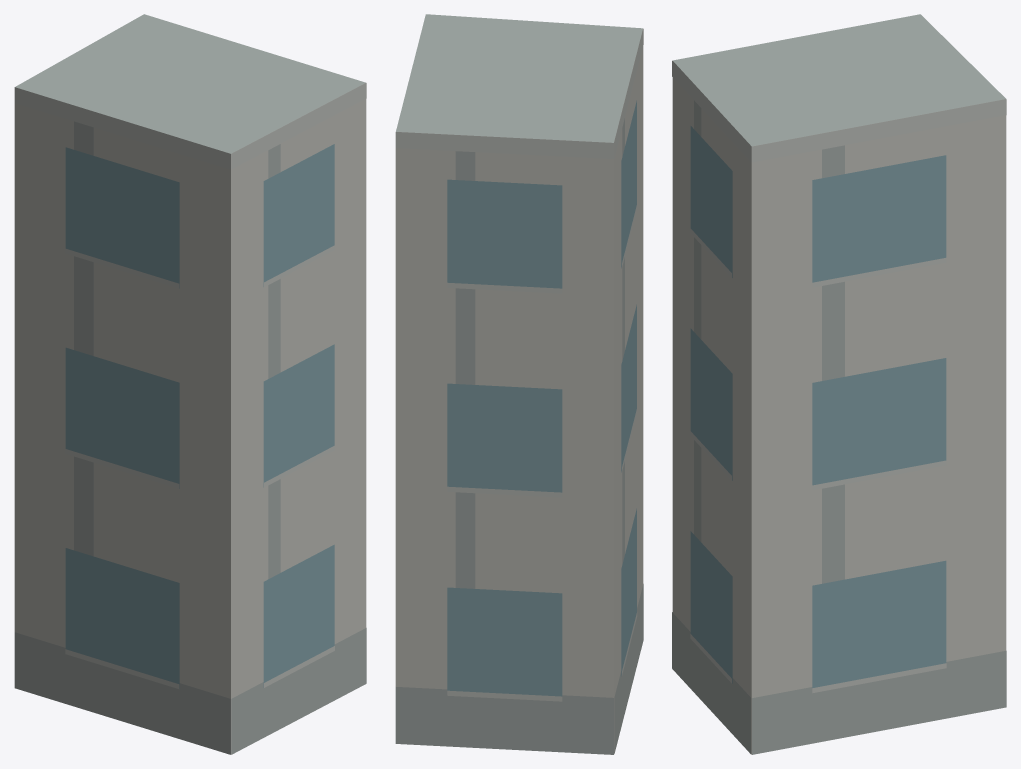
Rendered from survey-upis-32960899.glb.
The picture shows the model from 3 angles, left to right: view 1: azimuth 30°, elevation 25°; view 2: azimuth 150°, elevation 25°; view 3: azimuth 270°, elevation 25°; orthographic projection.
Visible parts, largest first — view 1: survey-upis-32960899.tmp; view 2: survey-upis-32960899.tmp; view 3: survey-upis-32960899.tmp.
Boxes of the visible parts, x1,y1,x2,y2 form: survey-upis-32960899.tmp: (14, 14, 366, 754); survey-upis-32960899.tmp: (395, 14, 643, 754); survey-upis-32960899.tmp: (672, 14, 1006, 754).
Size of the model in its own units: 4.28 by 9.15 by 4.56.
